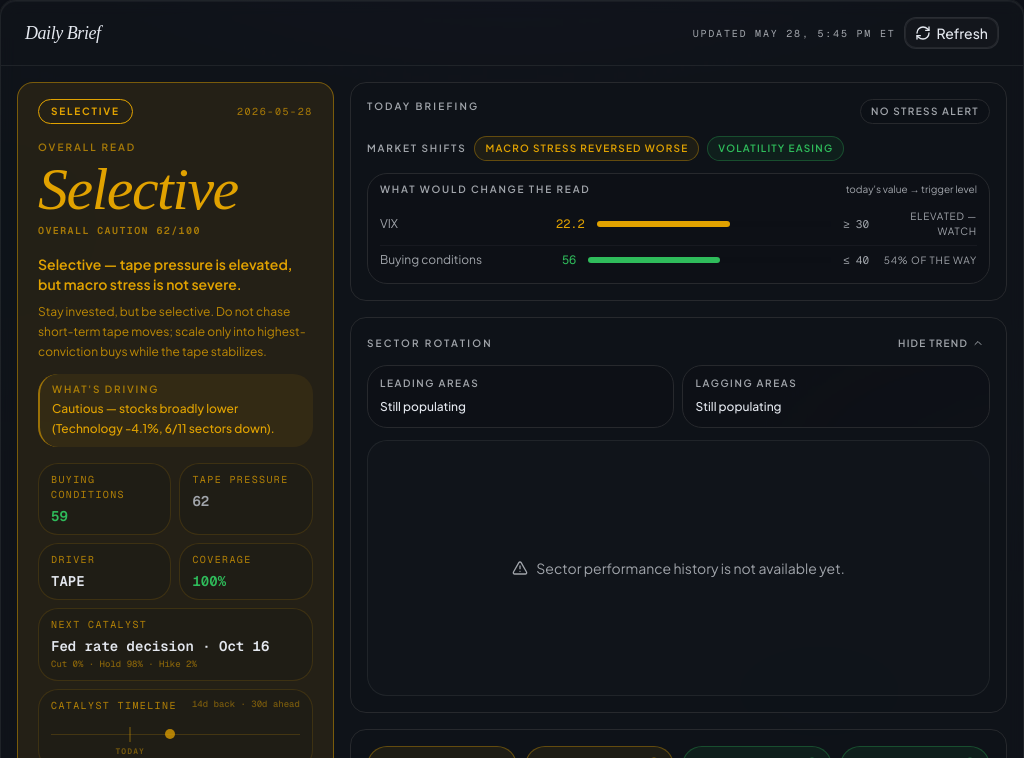
it: DailyBriefPanel › shows FedWatch odds on the FOMC catalyst tile and timeline tooltip
Expected: the text "Cut 0% · Hold 98% · Hike 2%" is shown, [51,658,197,670]
// Timeline FOMC dot tooltip carries the odds plus the year-end pricing.
Focus the button named "fed rate decision" at (170, 734), box [159,722,181,744]
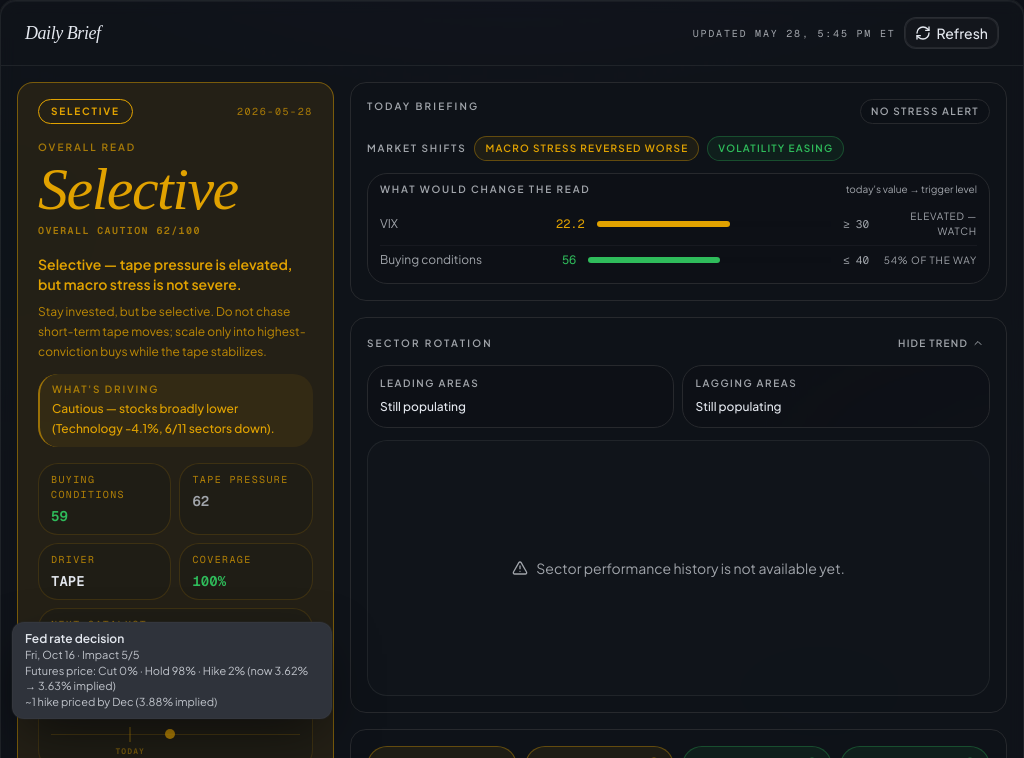
Now the text "Futures price: Cut 0% · Hold 98% · Hike 2%" is shown, box [25,664,245,677]
Now the text "~1 hike priced by Dec (3.88% implied)" is shown, box [25,695,217,708]
